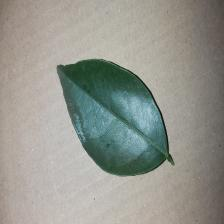healthy: (56, 55, 175, 177)
